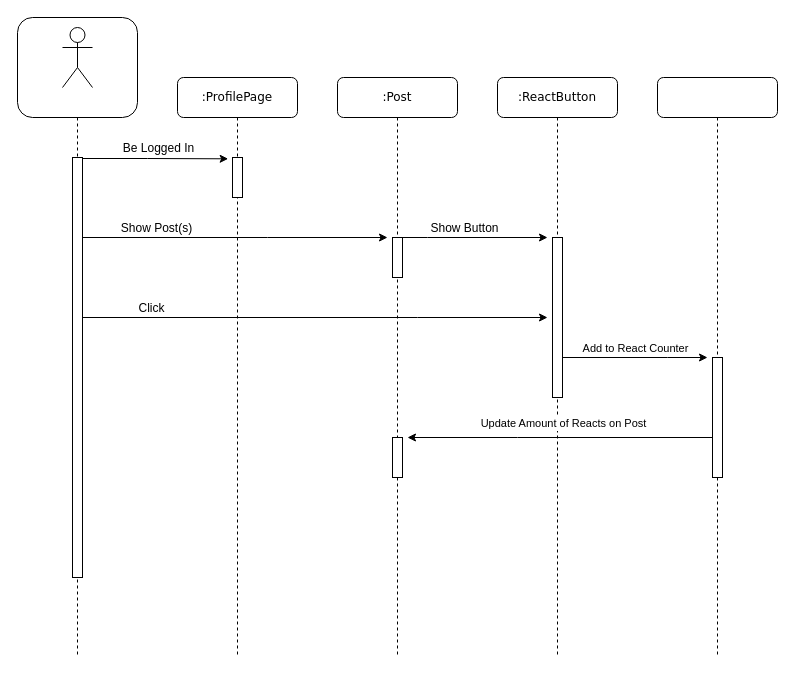
This 795x675 diagram has some shape labels left out. The shapes that lost their labels are listed below. From the top down, each one's centre as x and y in pixels, then its label:
At point (77, 57): "Boomer".
At point (717, 367): ":Database".
